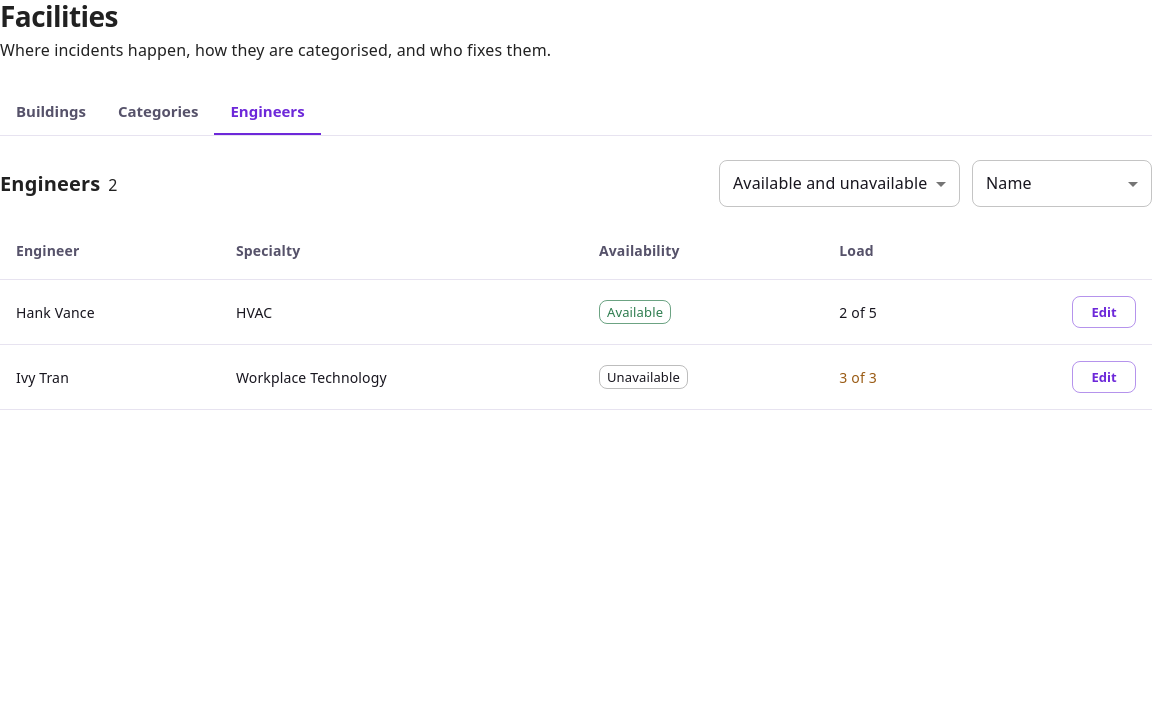
Test case: FacilitiesPage › lists engineers with their load and edits a profile
This screenshot has width=1152, height=720.
Check: the text "Ivy Tran" is shown, box [0, 345, 220, 410]
Check: the text "3 of 3" is shown, box [823, 345, 961, 410]
Select "Available" in the 1st dropdown named "Availability" at (840, 184), box [719, 160, 960, 207]
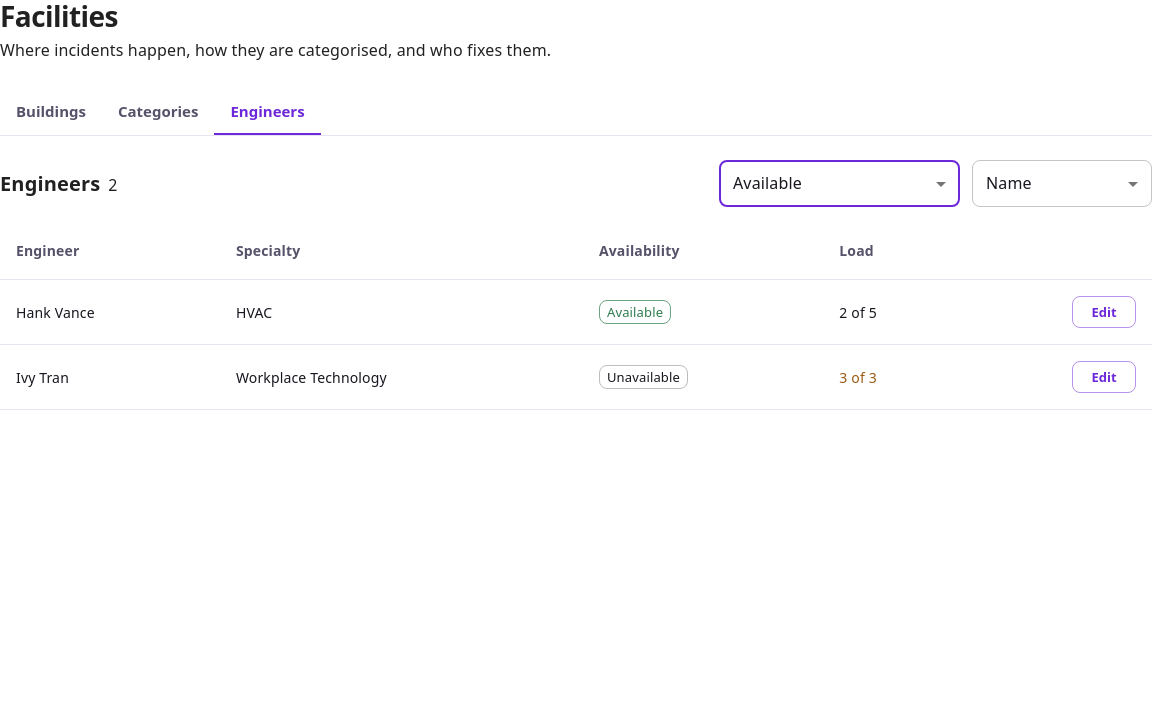
Click the button "Edit" in the row of "Ivy Tran" at (1104, 377), box [1072, 361, 1136, 393]
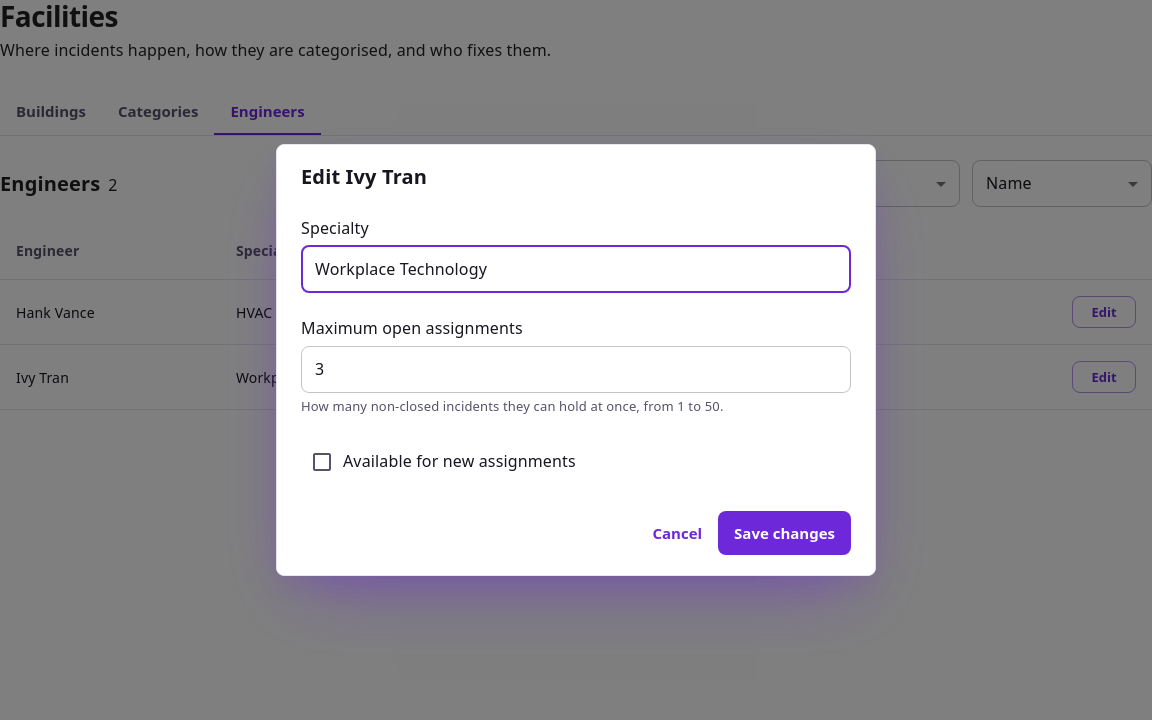
Replace the text in the number field labelled "Maximum open assignments" with "6" at (576, 369), box [301, 346, 851, 393]
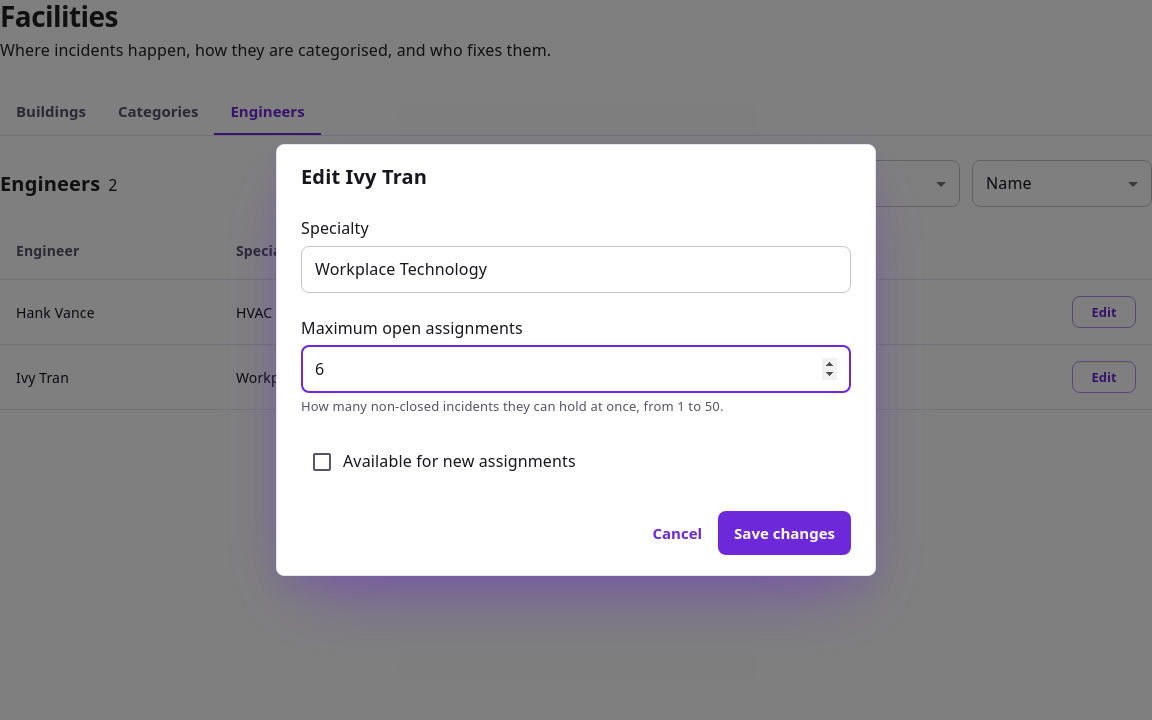
Click the checkbox labelled "Available for new assignments" at (443, 462), box [310, 450, 576, 474]
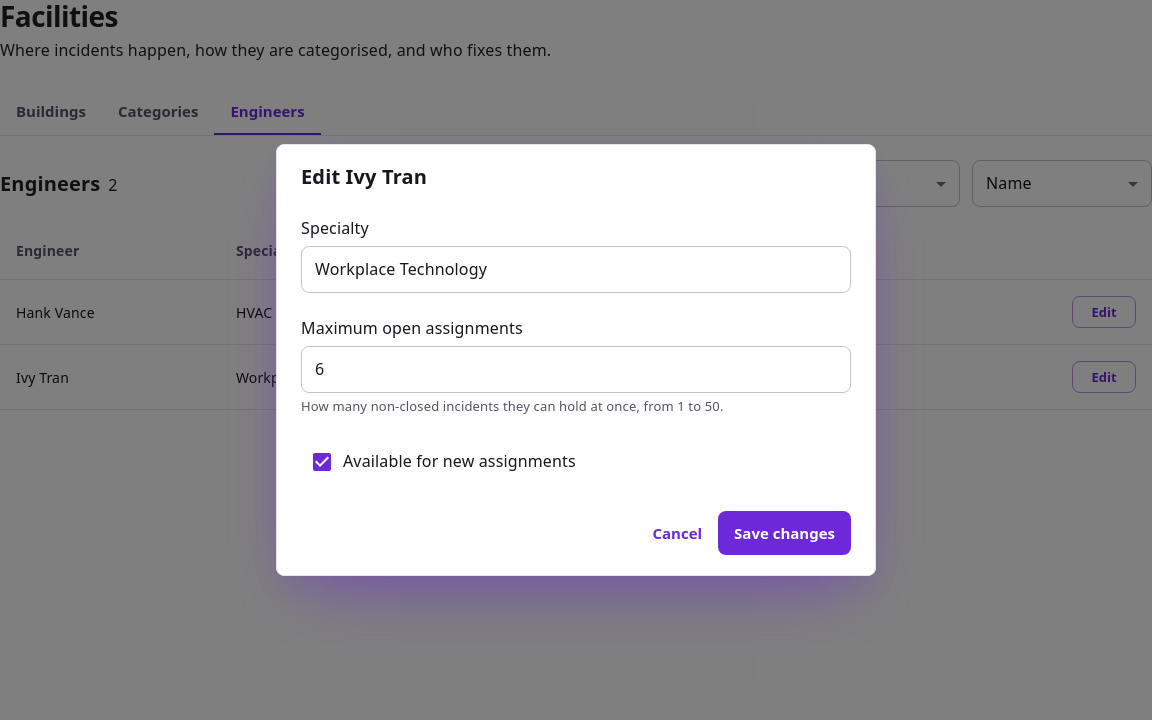
Click the button "Save changes" at (785, 533), box [718, 511, 851, 555]
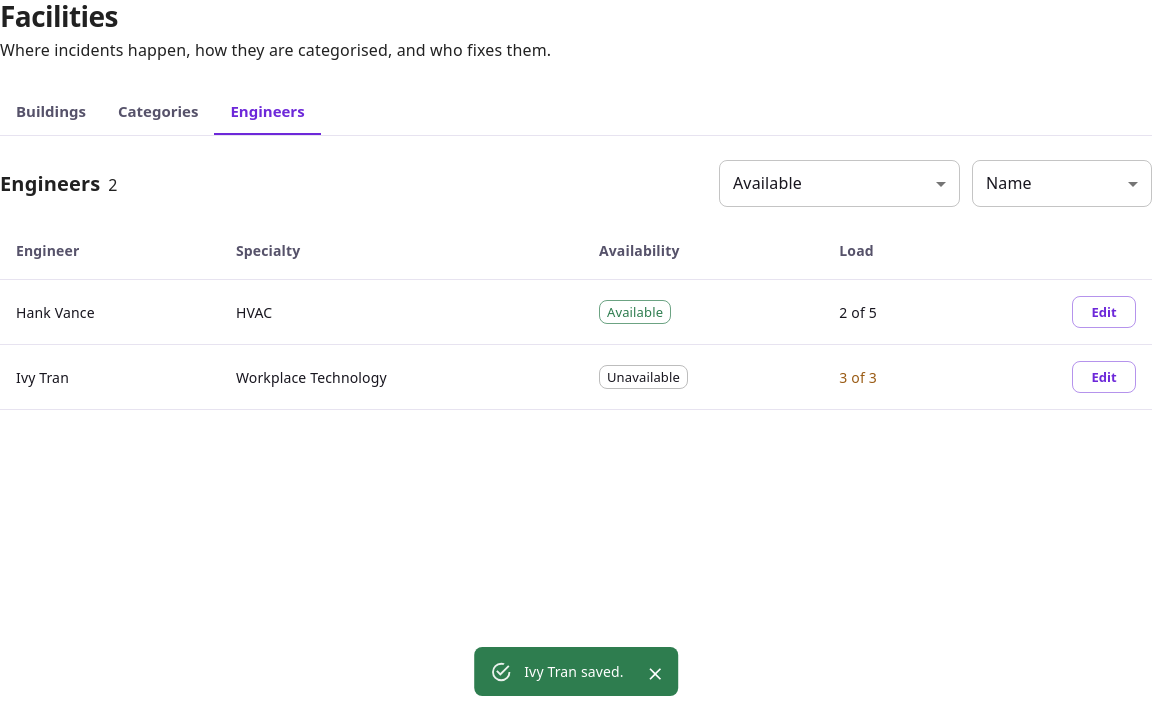
Check: the text "Ivy Tran saved." is shown, box [524, 662, 624, 681]
